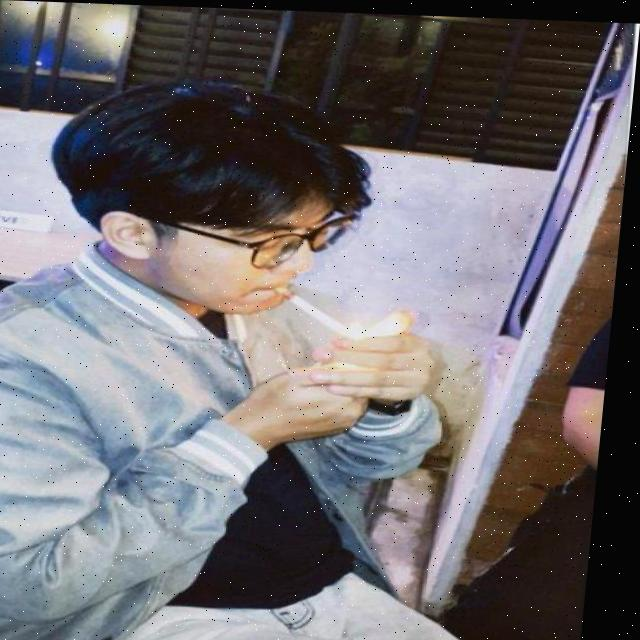cigarette: (280, 285, 371, 335)
